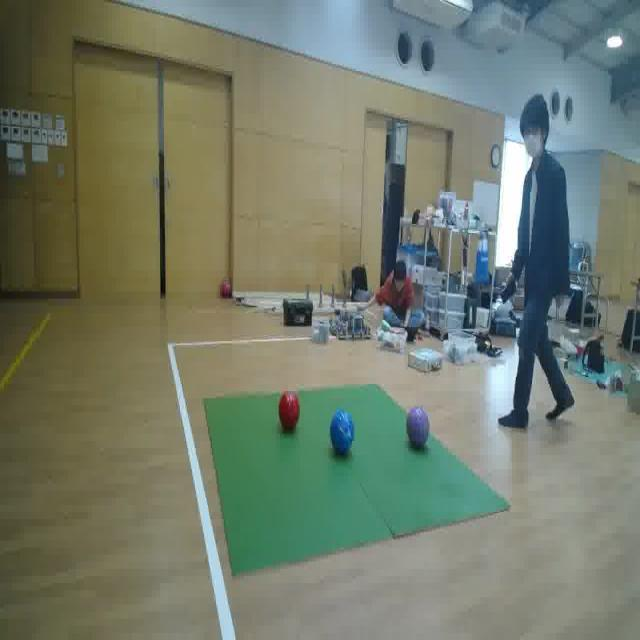blue_ball: (330, 408, 356, 455)
purple_ball: (407, 405, 429, 448)
red_ball: (278, 390, 300, 430)
